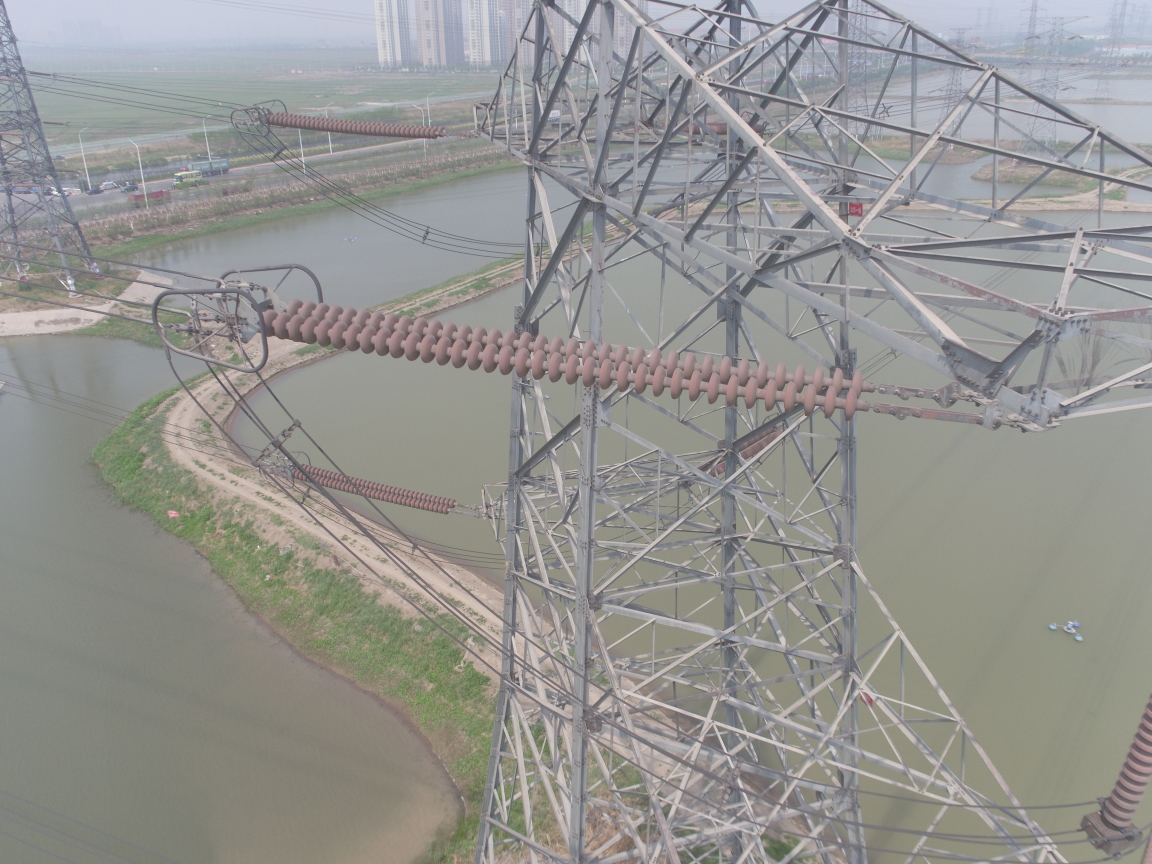insulator: (249, 296, 911, 421), (288, 459, 466, 517), (256, 104, 455, 140)
